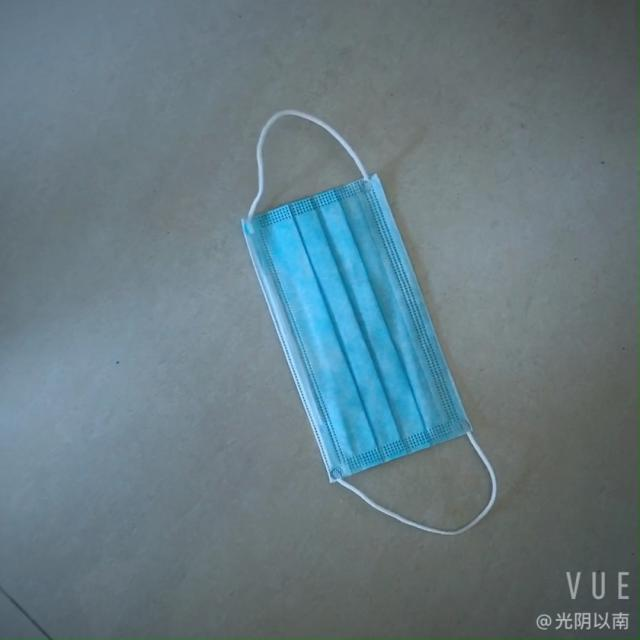non-organic waste: (238, 154, 471, 487)
